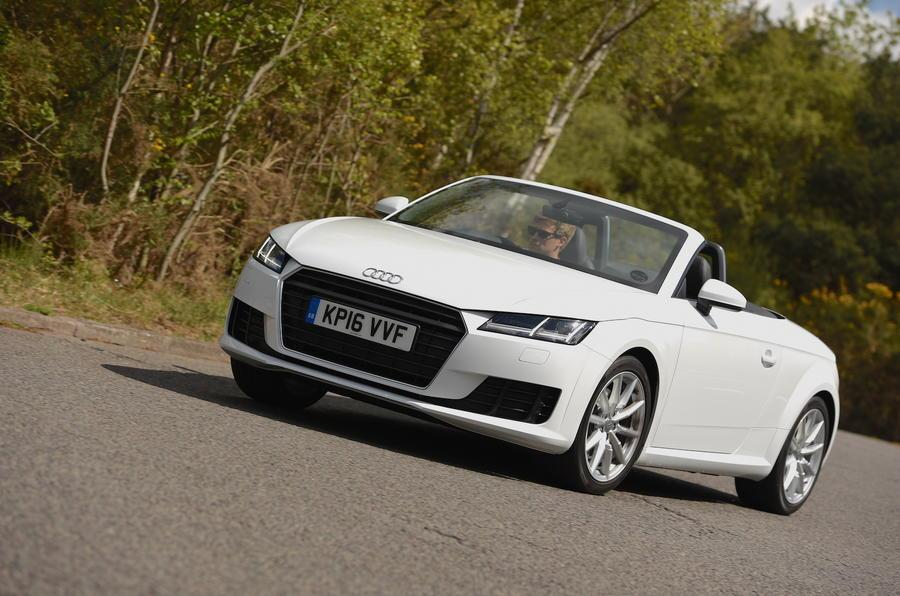car: (228, 137, 843, 523)
